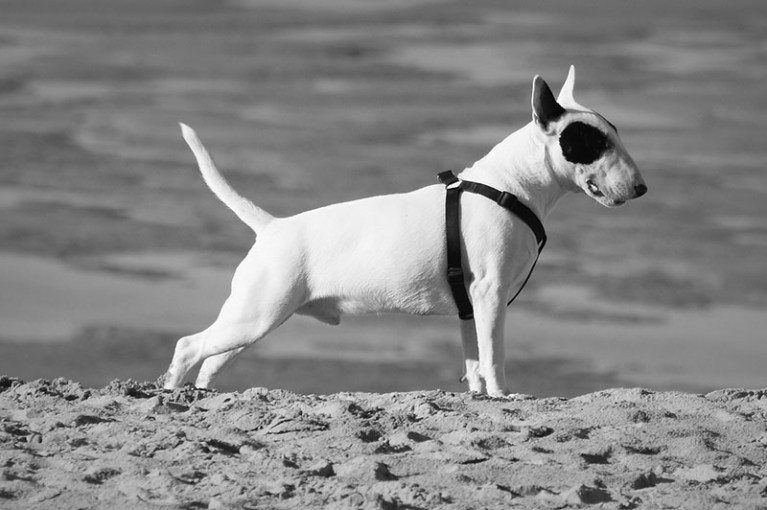dog: (155, 63, 649, 401)
